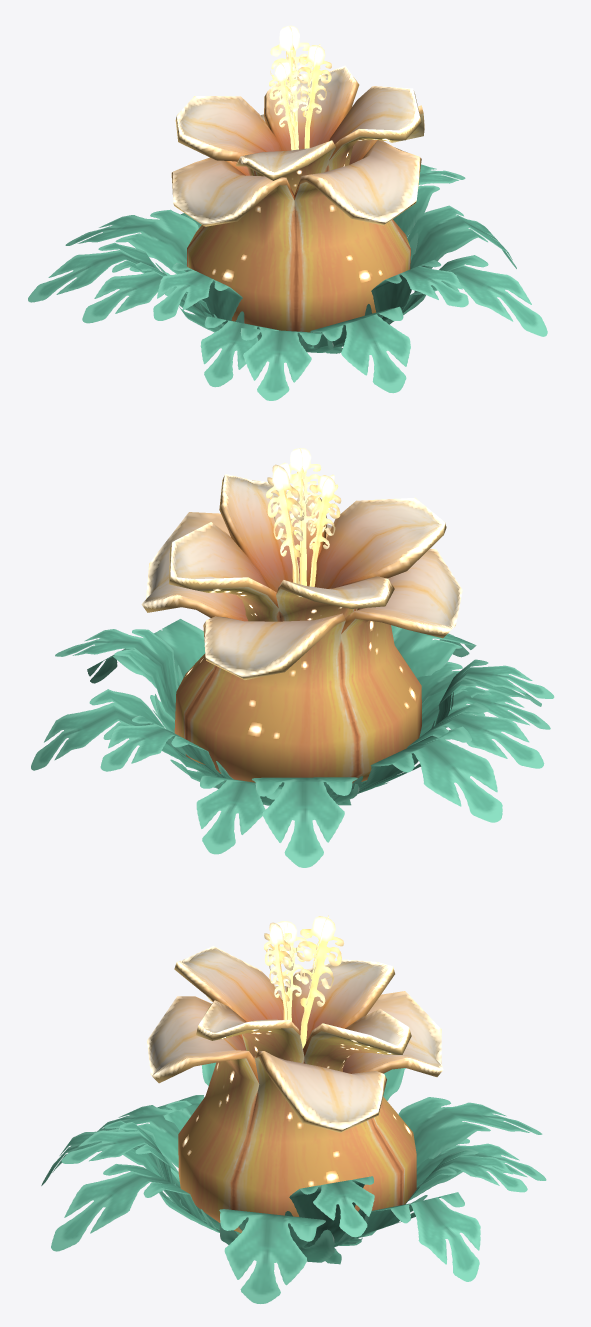
Rendered from SM_ENV_plant_ancient_16.fbx.
The picture shows the model from 3 angles, top to bottom: view 1: azimuth 30°, elevation 25°; view 2: azimuth 150°, elevation 25°; view 3: azimuth 270°, elevation 25°; orthographic projection. The views are drawn at different scales.
Parts seen in each view (by area): view 1: SM_ENV_plant_ancient_16_LOD0; view 2: SM_ENV_plant_ancient_16_LOD0; view 3: SM_ENV_plant_ancient_16_LOD0.
Part boxes in pixels (bbox=[...]): SM_ENV_plant_ancient_16_LOD0: bbox=[28, 25, 547, 400]; SM_ENV_plant_ancient_16_LOD0: bbox=[31, 448, 554, 867]; SM_ENV_plant_ancient_16_LOD0: bbox=[41, 915, 546, 1303].
Bounding box in the file's own units: 80.89 × 52.48 × 80.81.
